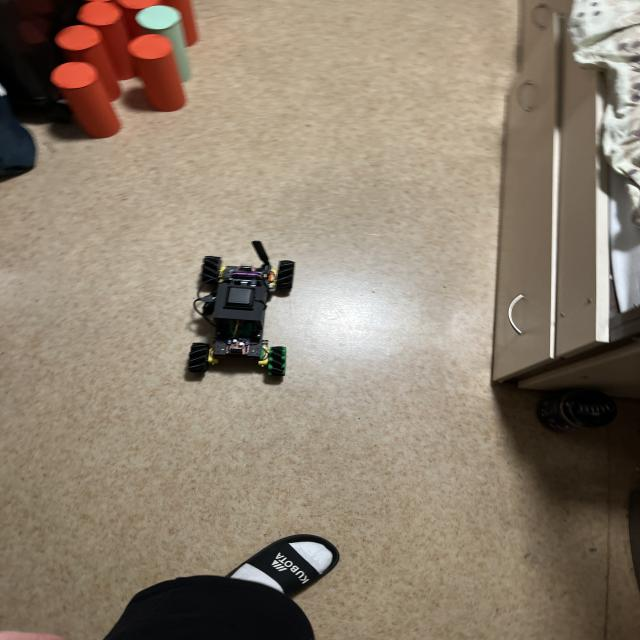robot: (188, 241, 294, 377)
